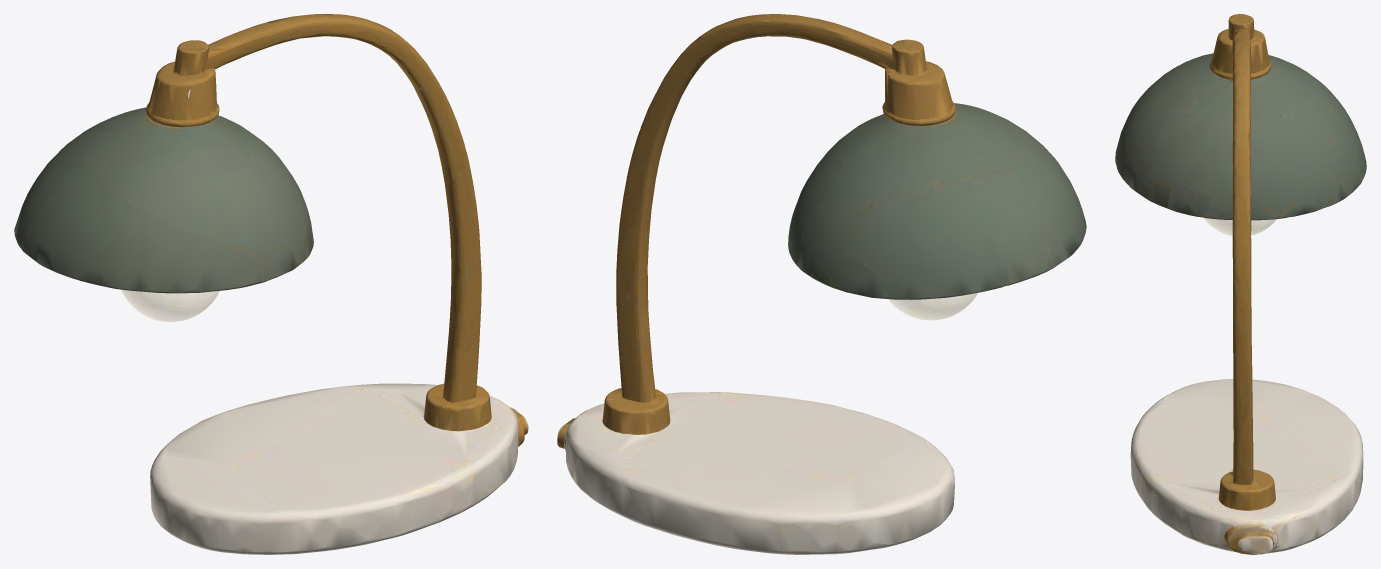
The model's file is upm_mv3pqwa16g4.glb.
The picture shows the model from 3 angles, left to right: view 1: azimuth 30°, elevation 25°; view 2: azimuth 150°, elevation 25°; view 3: azimuth 270°, elevation 25°; orthographic projection. The views are drawn at different scales.
Visible parts, largest first — view 1: Mesh_0; view 2: Mesh_0; view 3: Mesh_0.
Boxes of the visible parts, left/top/right/bottom form: Mesh_0: left=14, top=14, right=528, bottom=554; Mesh_0: left=557, top=14, right=1086, bottom=554; Mesh_0: left=1115, top=14, right=1366, bottom=554.
Size of the model in its own units: 1.61 by 1.5 by 0.8411.
2 materials, 2 textured.
